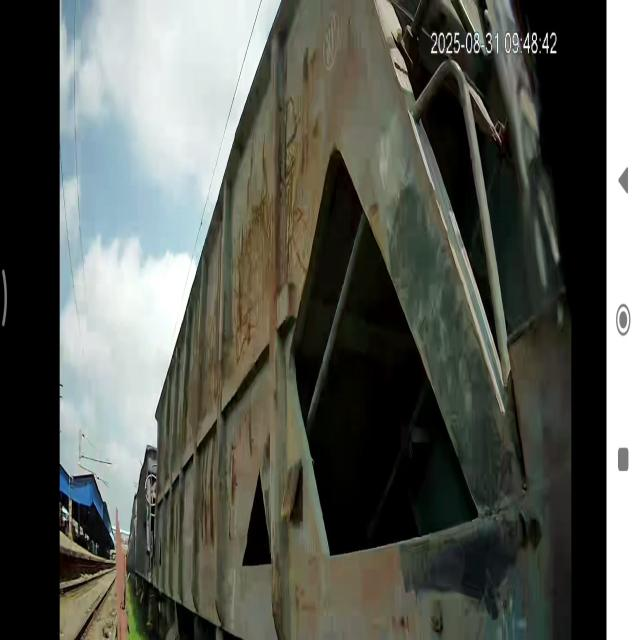coach: (157, 8, 600, 640)
